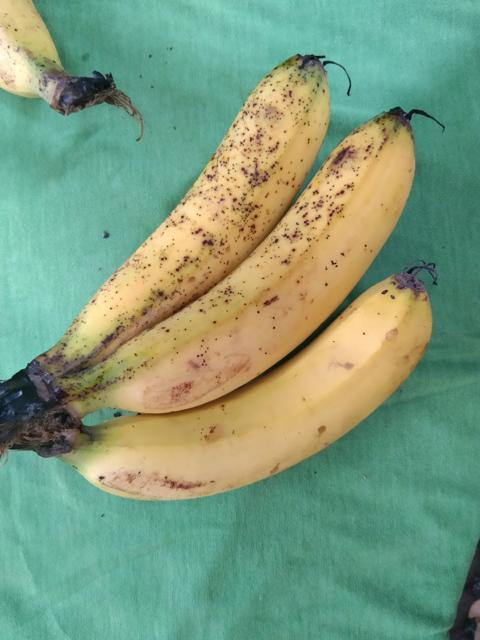freshripe: (77, 268, 447, 508)
ripe: (100, 98, 426, 413), (59, 41, 341, 361)
